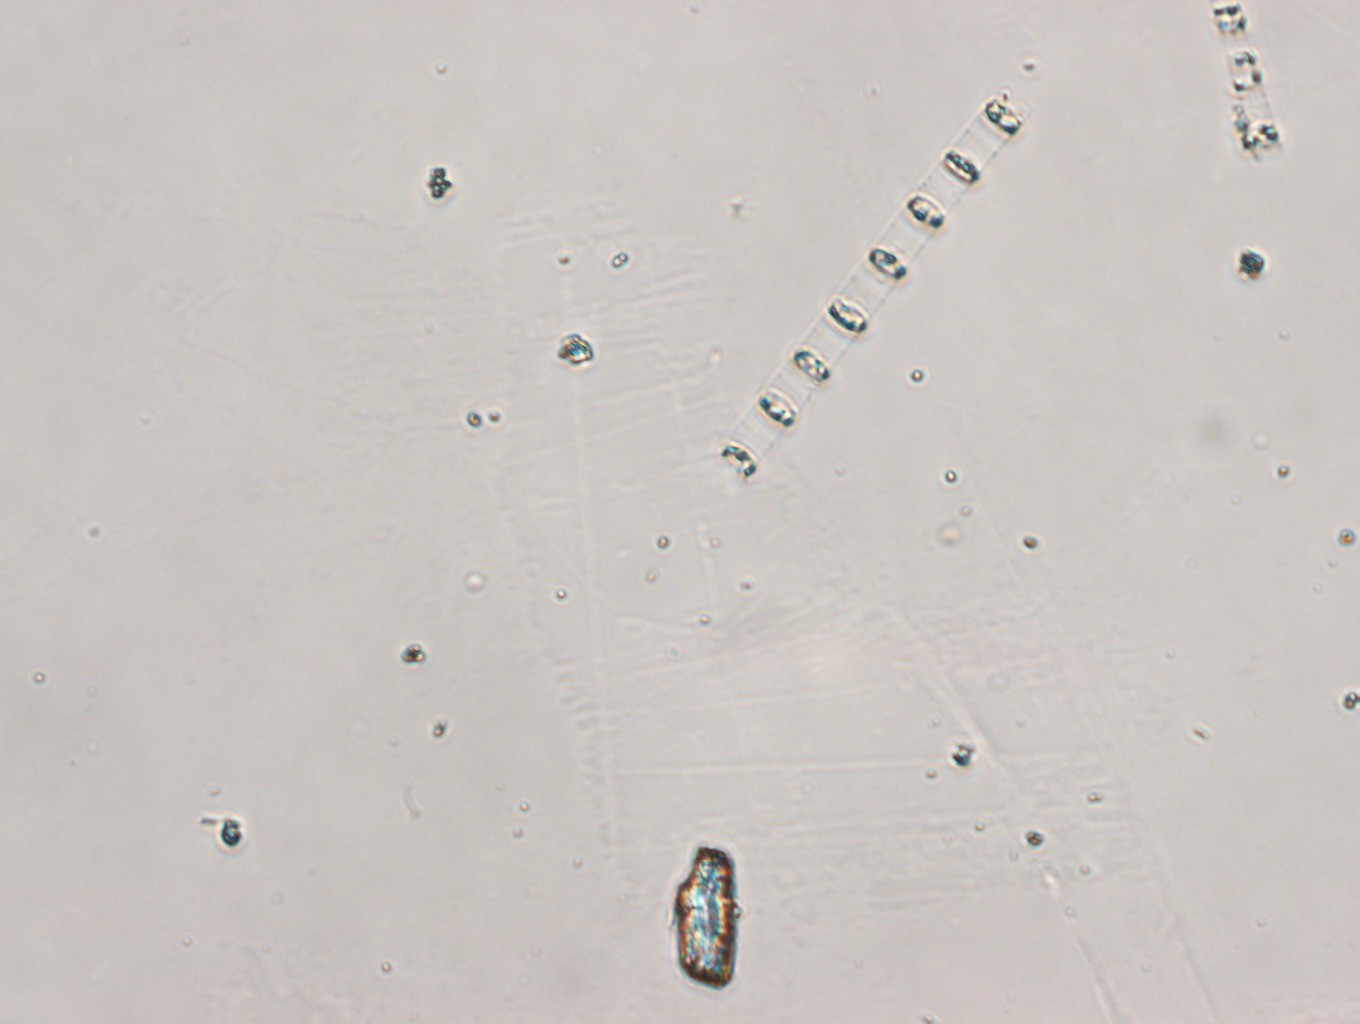skeletonema: (712, 87, 1031, 484), (1209, 1, 1285, 161)
